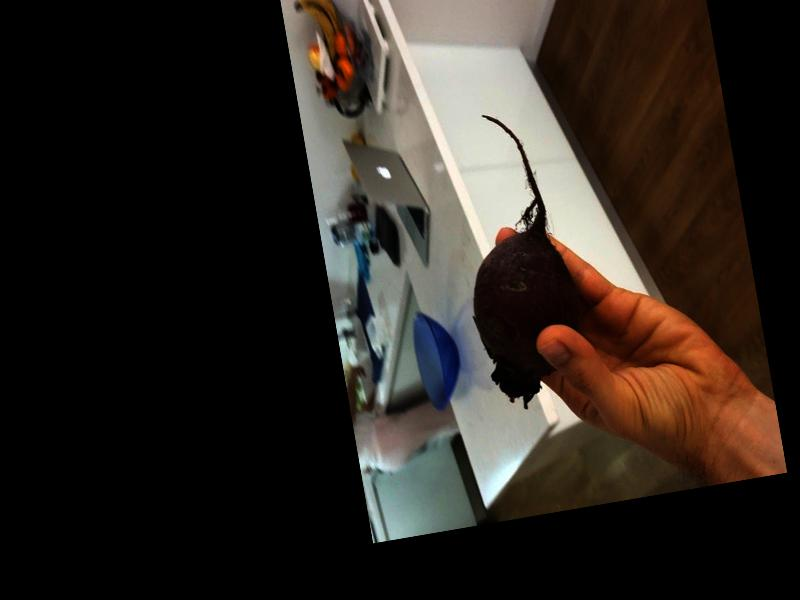Beet: (441, 104, 592, 411)
